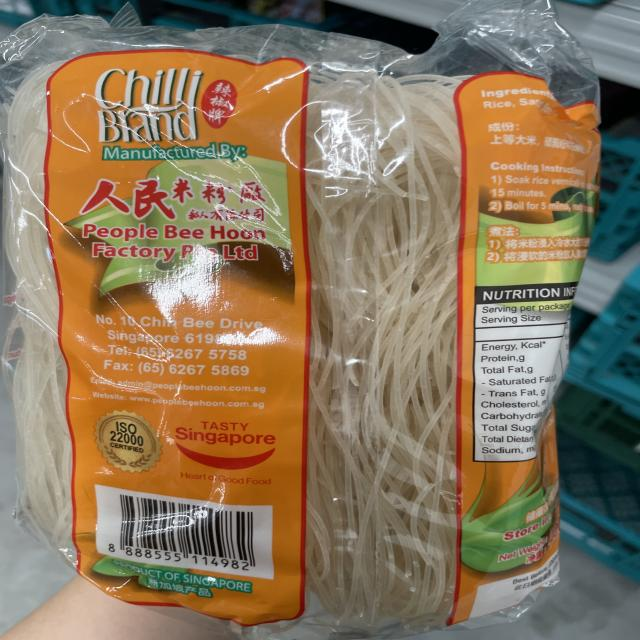object_name: (19, 43, 555, 606)
